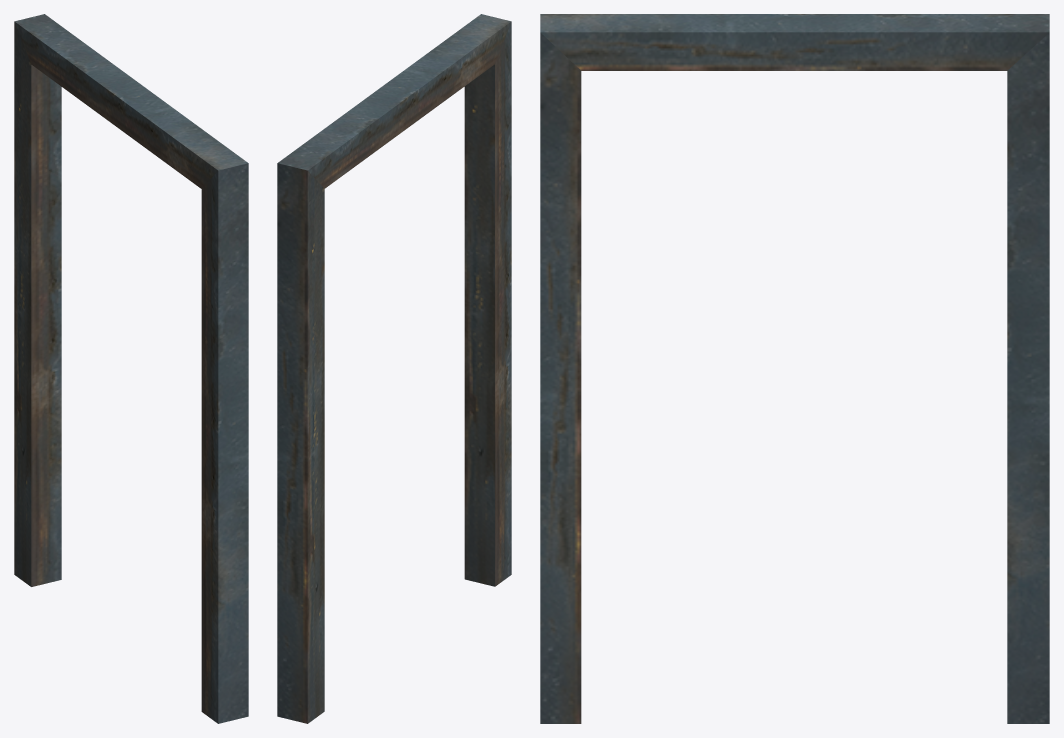
File: Door_Outline_2.fbx
3 views of the same model, side by side, from view 1: azimuth 30°, elevation 25°; view 2: azimuth 150°, elevation 25°; view 3: azimuth 270°, elevation 25° (orthographic). The views are drawn at different scales.
Parts seen in each view (by area): view 1: Door_Outline_2; view 2: Door_Outline_2; view 3: Door_Outline_2.
Boxes of the visible parts, x1=… form: Door_Outline_2: x1=14, y1=14, x2=248, y2=723; Door_Outline_2: x1=277, y1=14, x2=511, y2=723; Door_Outline_2: x1=540, y1=14, x2=1049, y2=723.
Size of the model in its own units: 7.39 by 129 by 86.
